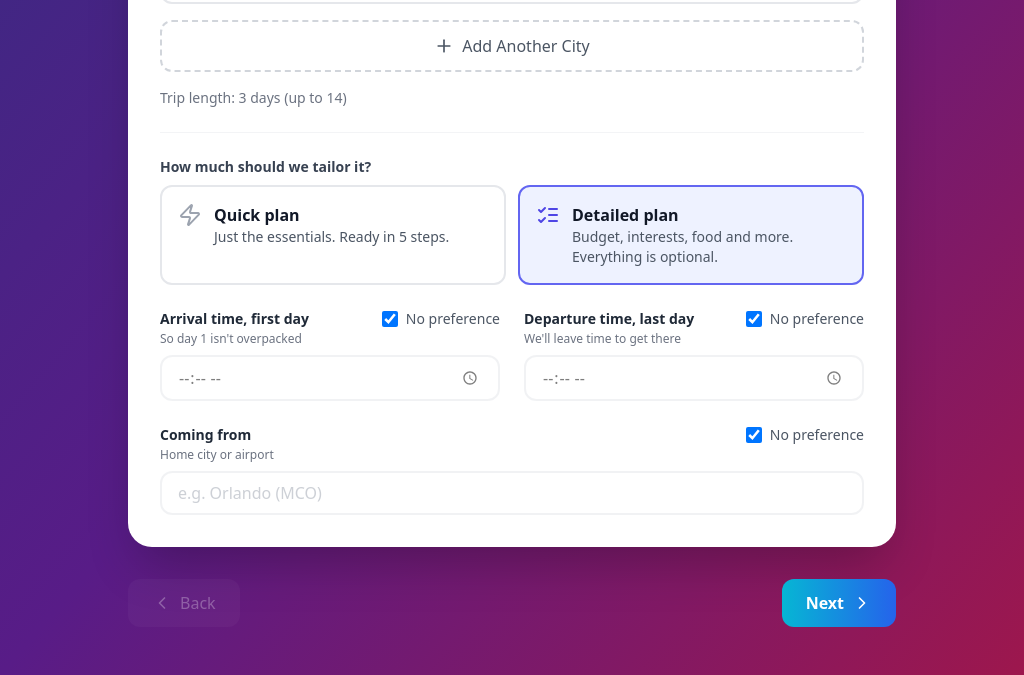
TripQuestionnaire › profile needs are shown read-only on the food and getting-around steps
(page scrolled)
Click the button "Next": (839, 603) [782,579,896,627]
(page scrolled)
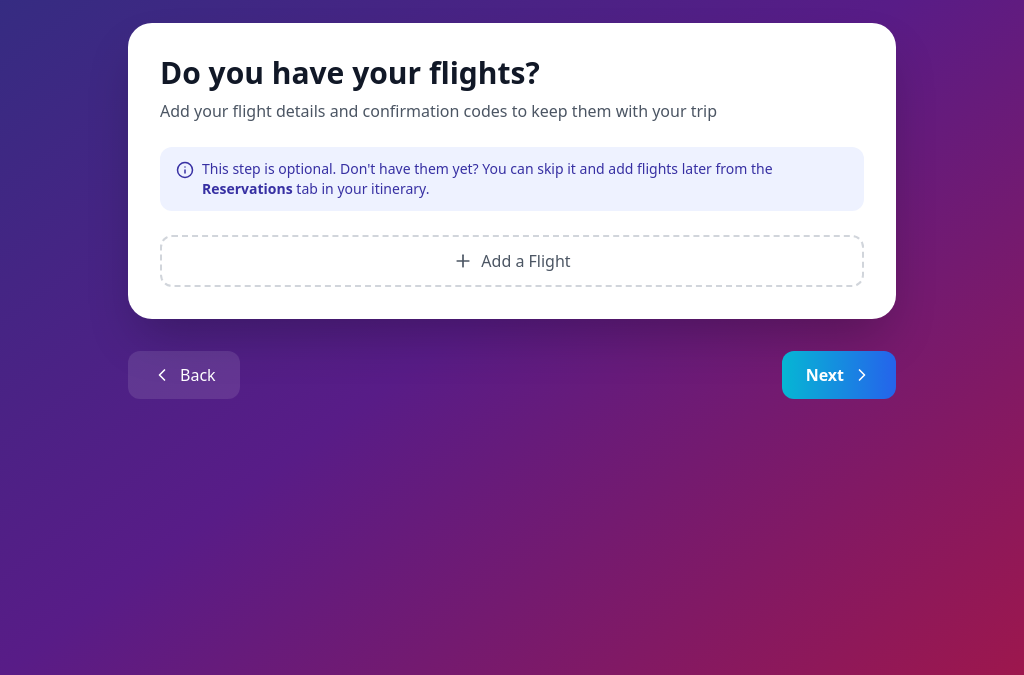
Click the button "Next": (839, 375) [782,351,896,399]
(page scrolled)
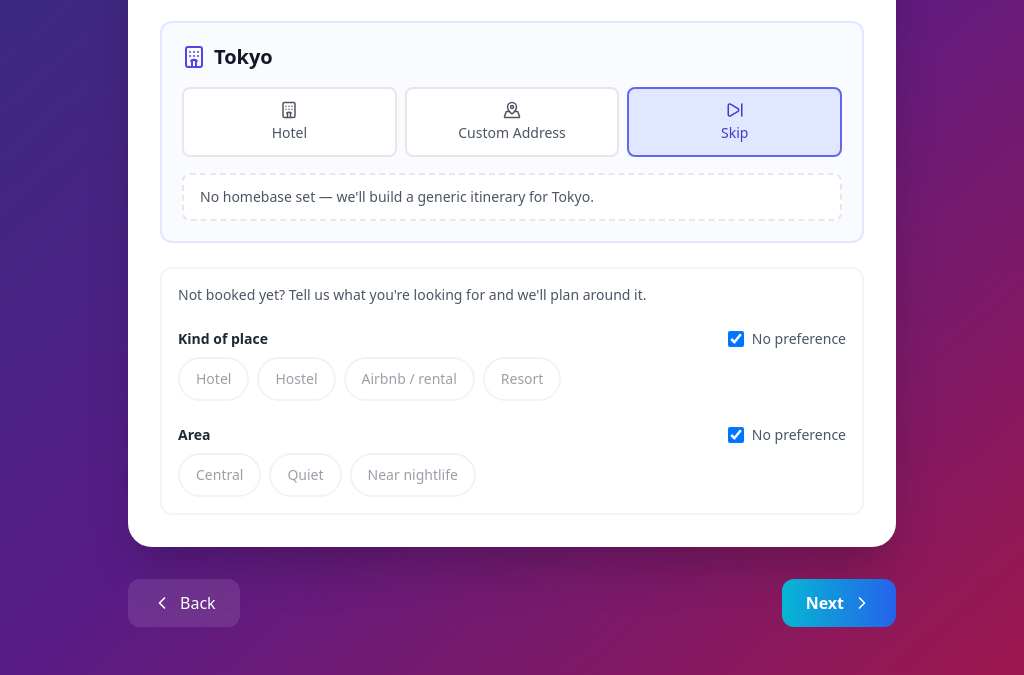
Click the button "Next": (839, 603) [782,579,896,627]
(page scrolled)
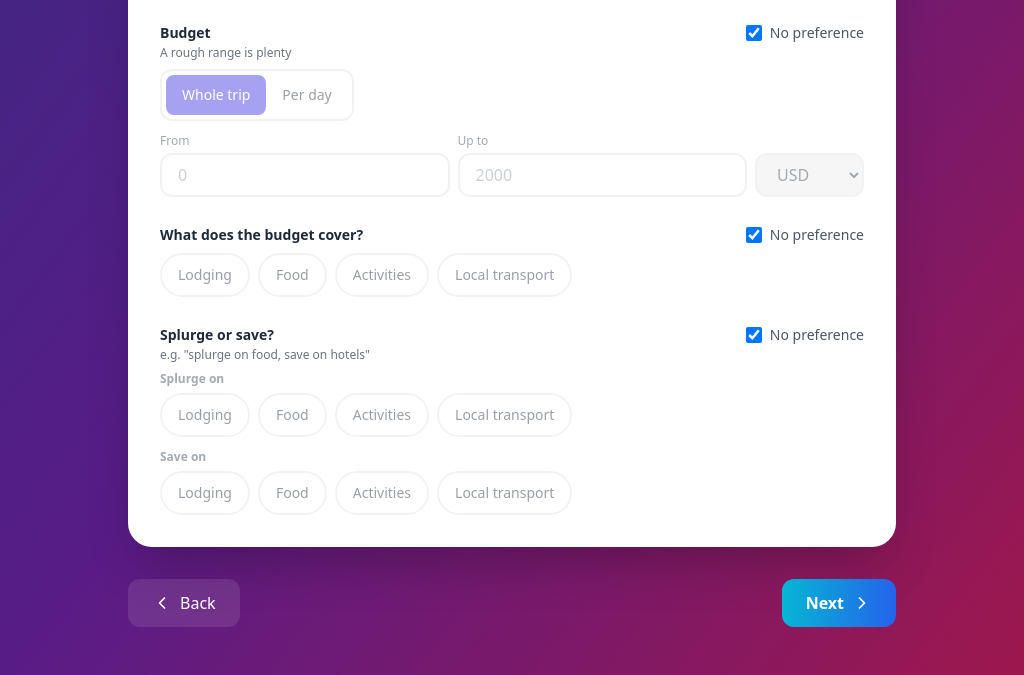
Click the button "Next": (839, 603) [782,579,896,627]
(page scrolled)
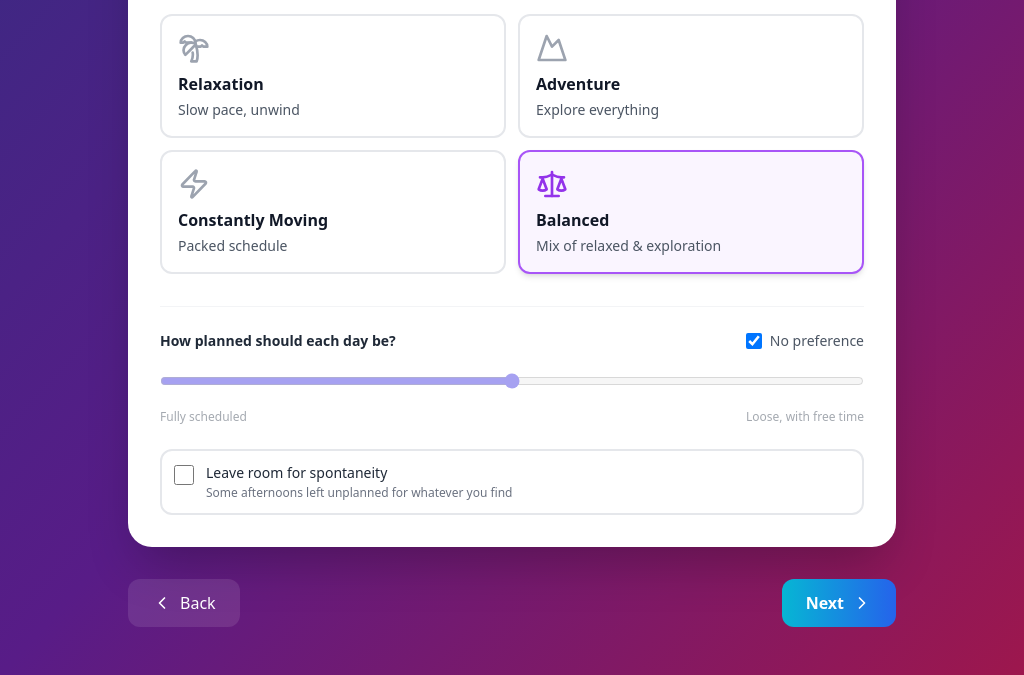
Click the button "Next": (839, 603) [782,579,896,627]
(page scrolled)
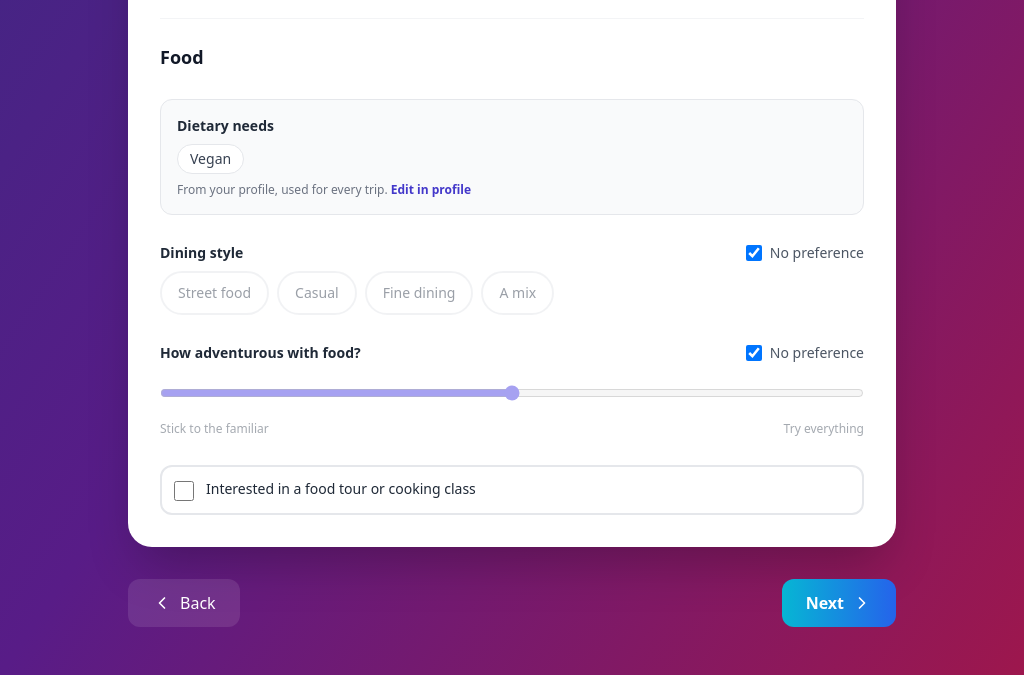
Check: the list item "Vegan" is shown, box [177,144,244,174]
Click the button "Next": (839, 603) [782,579,896,627]
(page scrolled)
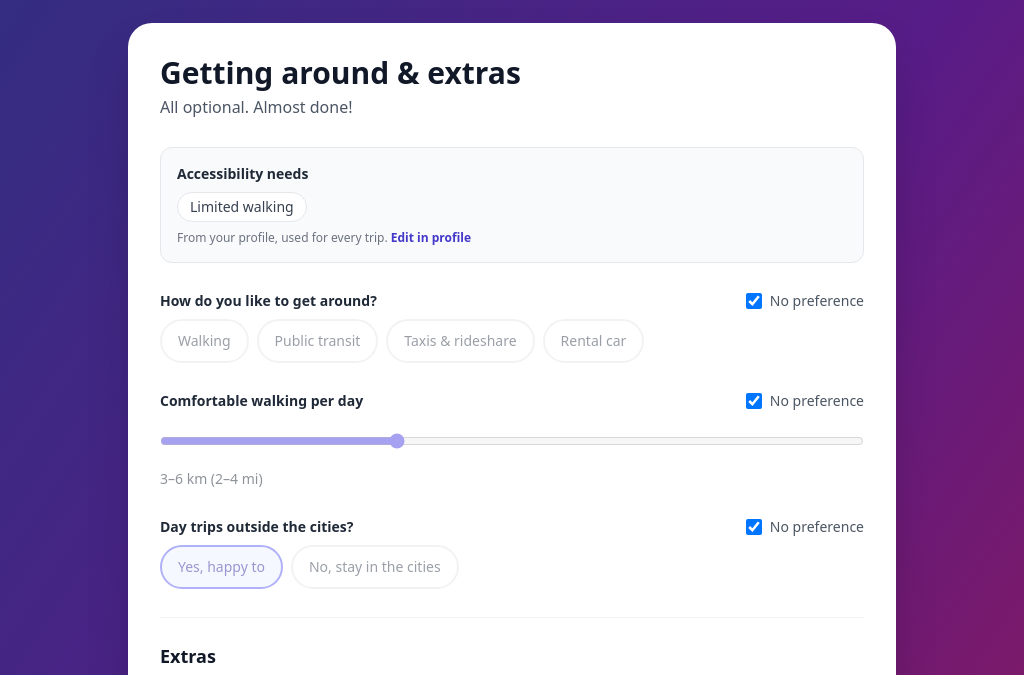
Check: the list item "Limited walking" is shown, box [177,192,307,222]
